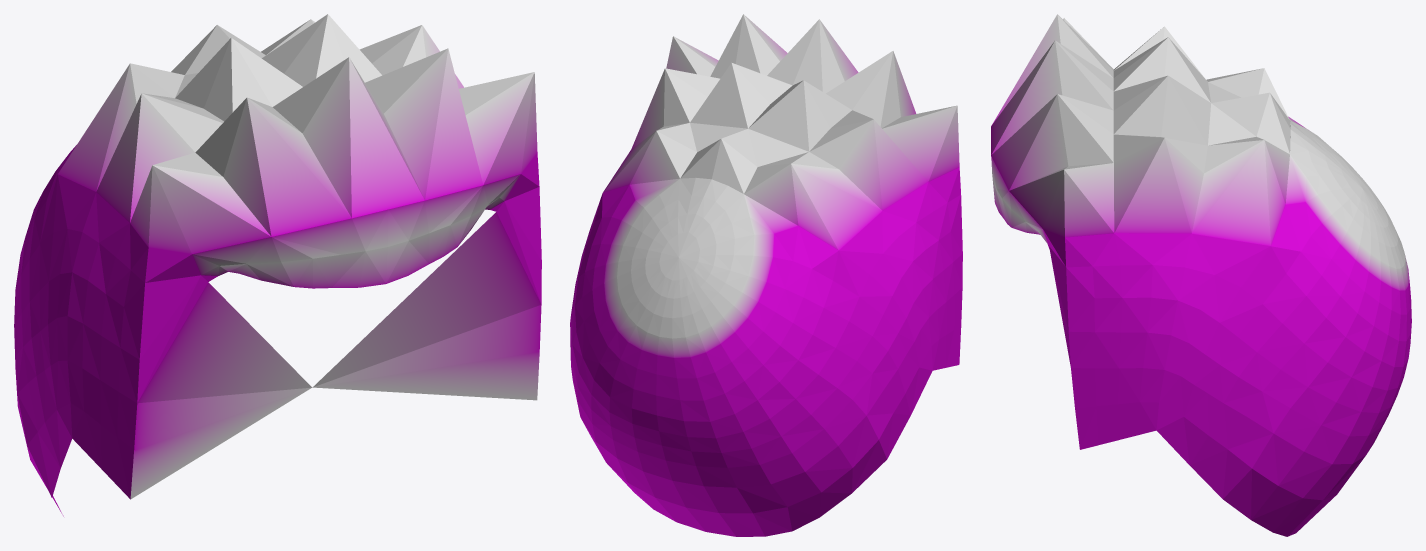
The model's file is hair_50.glb.
The picture shows the model from 3 angles, left to right: view 1: azimuth 30°, elevation 25°; view 2: azimuth 150°, elevation 25°; view 3: azimuth 270°, elevation 25°; orthographic projection. The views are drawn at different scales.
Visible parts, largest first — view 1: shape; view 2: shape; view 3: shape.
Boxes of the visible parts, x1,y1,x2,y2 form: shape: [14, 14, 541, 516]; shape: [570, 14, 962, 536]; shape: [991, 14, 1411, 536].
Size of the model in its own units: 52.64 by 67.72 by 54.9.
